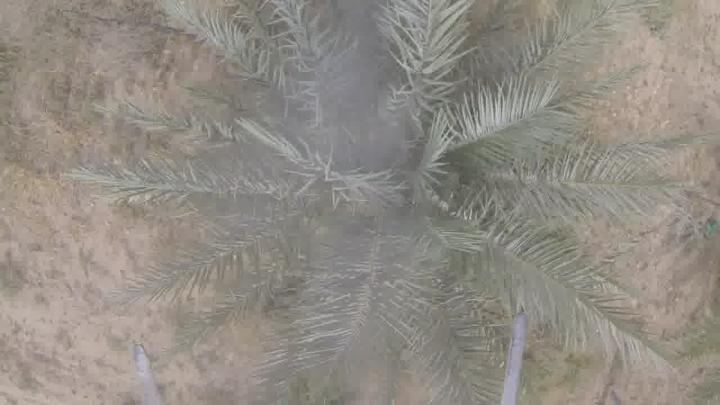Date-Palm-Crown: (184, 32, 596, 352)
